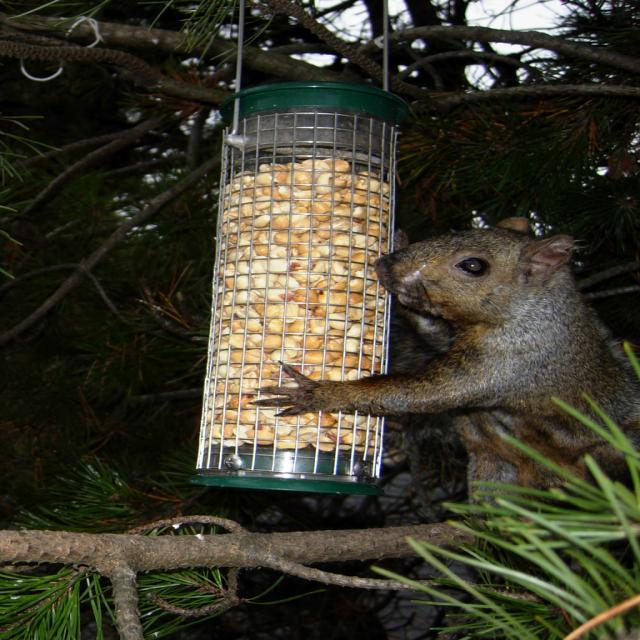rat: (253, 211, 640, 468)
